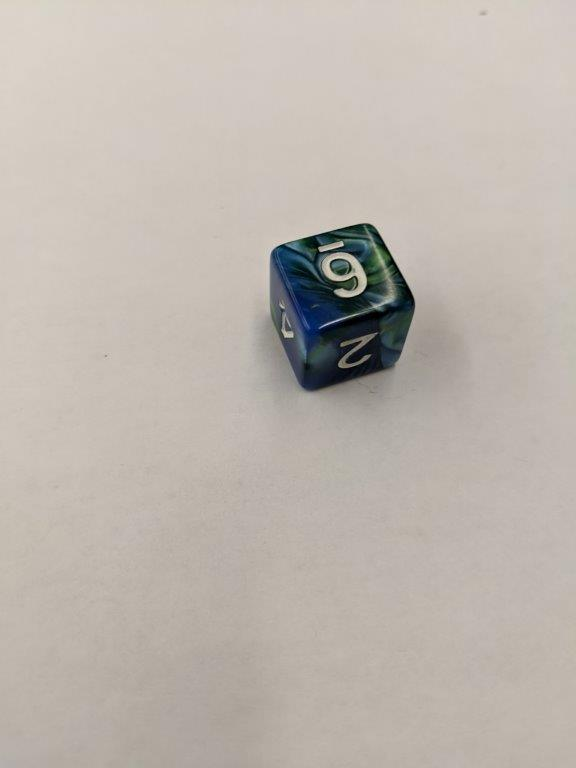d6-6: (269, 222, 415, 395)
